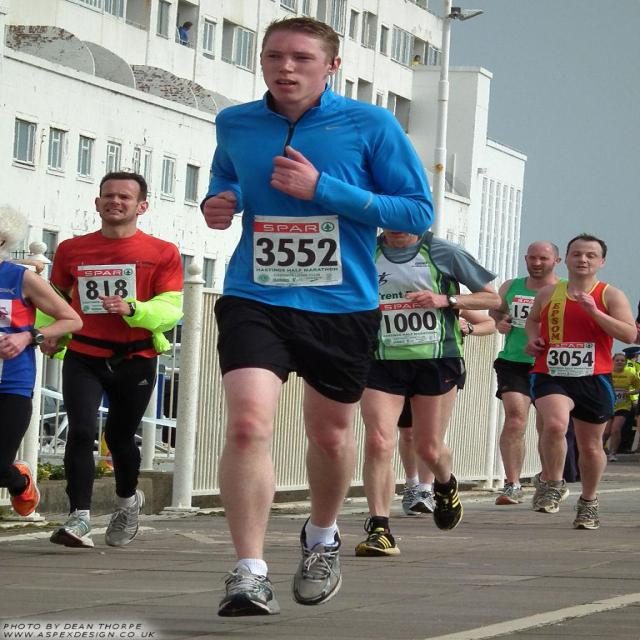Bib: (251, 239, 340, 271), (382, 311, 442, 337), (82, 277, 134, 301), (550, 348, 595, 368)
